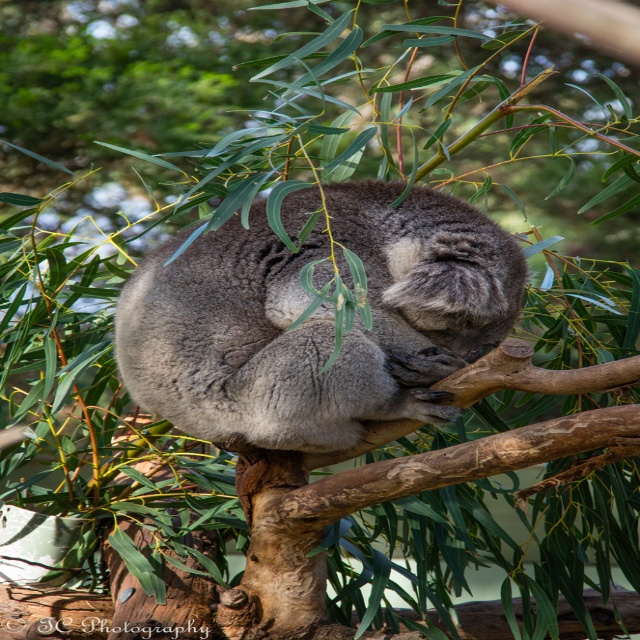Koala: (109, 175, 546, 453)
